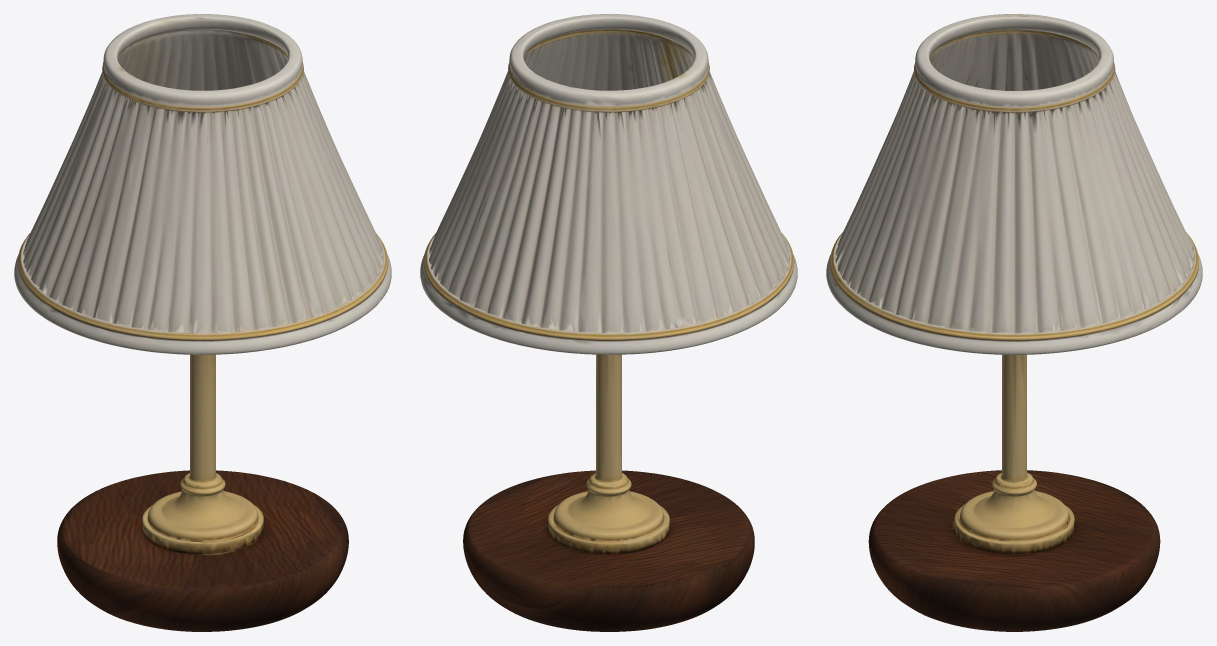
File: lamp.glb
3 views of the same model, side by side, from view 1: azimuth 30°, elevation 25°; view 2: azimuth 150°, elevation 25°; view 3: azimuth 270°, elevation 25° (orthographic).
Visible parts, largest first — view 1: node_0; view 2: node_0; view 3: node_0.
Part boxes in pixels (left/top/right/bottom): node_0: left=14, top=14, right=391, bottom=631; node_0: left=420, top=14, right=797, bottom=631; node_0: left=826, top=14, right=1202, bottom=631.
Bounding box in the file's own units: 0.7182 × 1.11 × 0.7165.
Materials: 1 (1 with a texture image).
